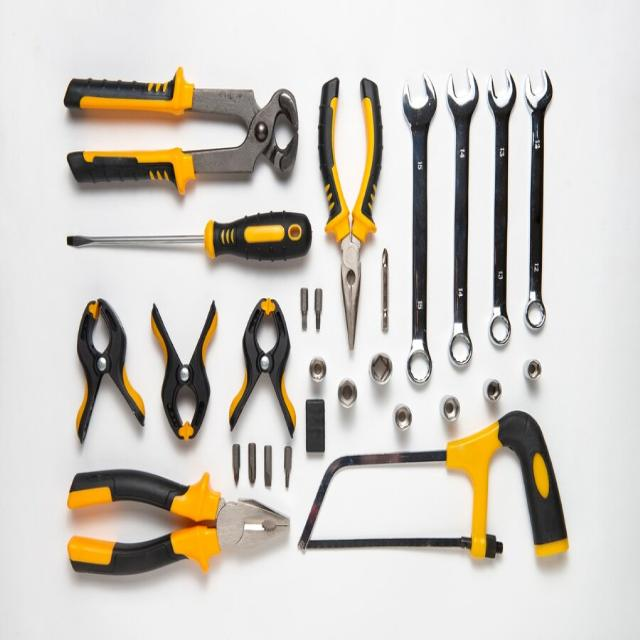Screwdriver: (66, 212, 311, 260)
